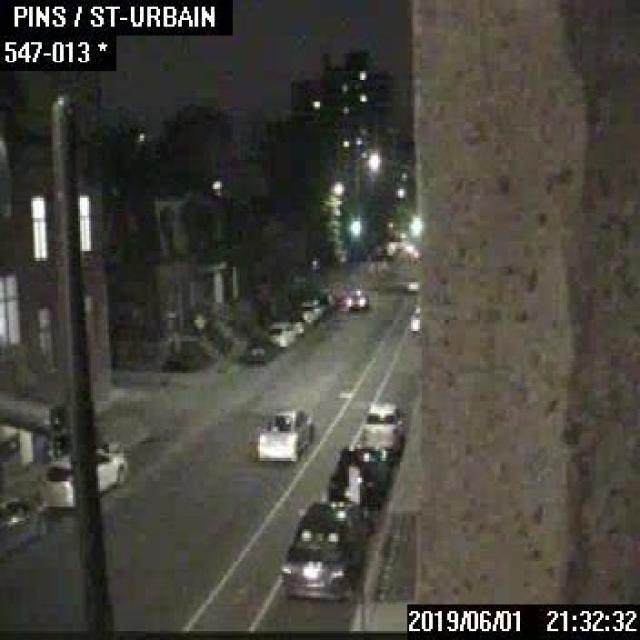vehicle: (279, 495, 368, 599), (40, 446, 126, 508), (327, 444, 390, 508), (251, 402, 314, 460), (0, 495, 47, 564), (361, 399, 404, 454), (244, 336, 278, 360), (297, 297, 323, 323), (267, 318, 292, 344), (404, 302, 420, 334), (315, 290, 336, 312), (344, 289, 367, 309), (404, 271, 419, 291), (292, 317, 306, 333)
